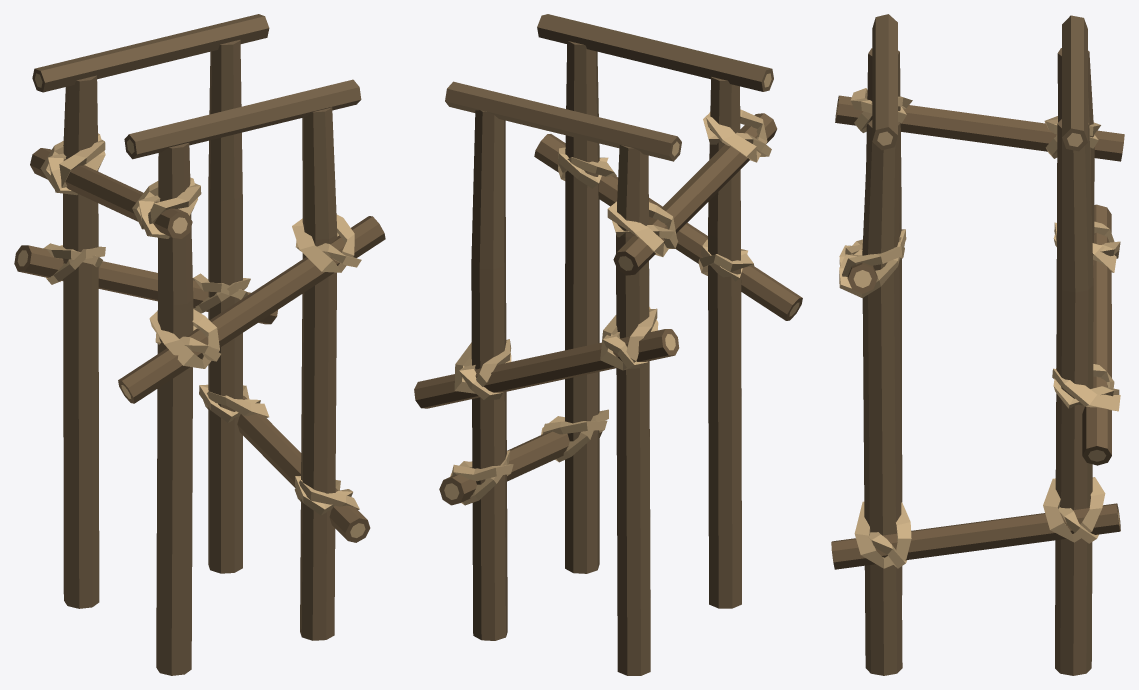
The model's file is rpgpp_ag_wall_platform_03_support_01b_6m.fbx.
The picture shows the model from 3 angles, left to right: view 1: azimuth 30°, elevation 25°; view 2: azimuth 150°, elevation 25°; view 3: azimuth 270°, elevation 25°; orthographic projection. The views are drawn at different scales.
Visible parts, largest first — view 1: rpgpp_ag_wall_platform_03_support_01b_6m; view 2: rpgpp_ag_wall_platform_03_support_01b_6m; view 3: rpgpp_ag_wall_platform_03_support_01b_6m.
Boxes of the visible parts, x1=… form: rpgpp_ag_wall_platform_03_support_01b_6m: x1=14, y1=14, x2=385, y2=675; rpgpp_ag_wall_platform_03_support_01b_6m: x1=414, y1=14, x2=802, y2=675; rpgpp_ag_wall_platform_03_support_01b_6m: x1=831, y1=14, x2=1124, y2=675.
Size of the model in its own units: 3.04 by 5.9 by 2.8.
